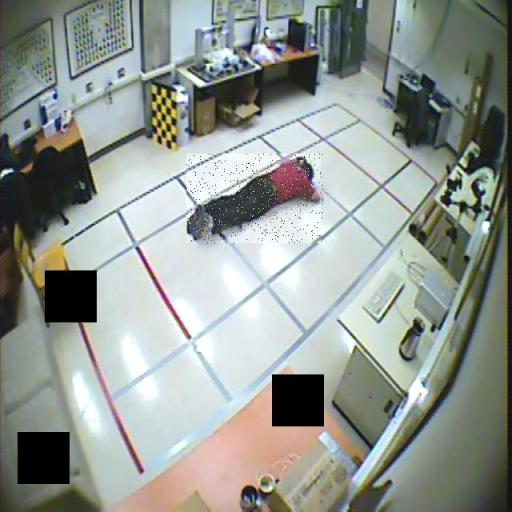Fall: (187, 154, 323, 243)
